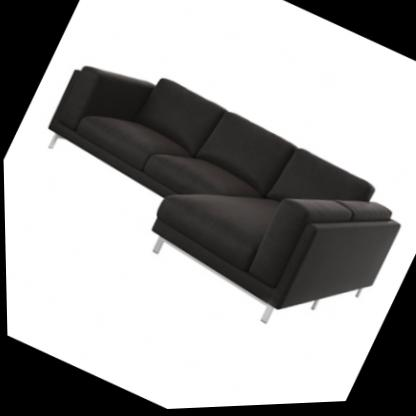Sofa: (1, 25, 416, 375)
